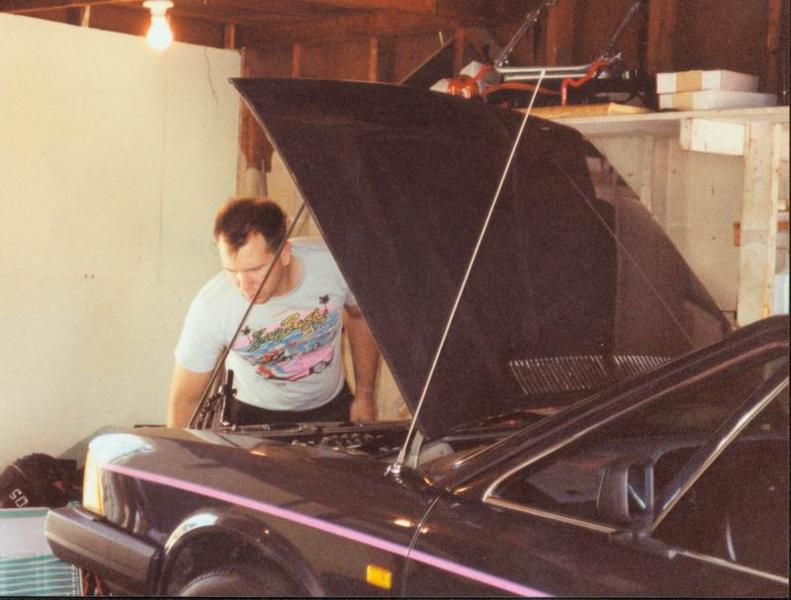person: (165, 193, 386, 435)
